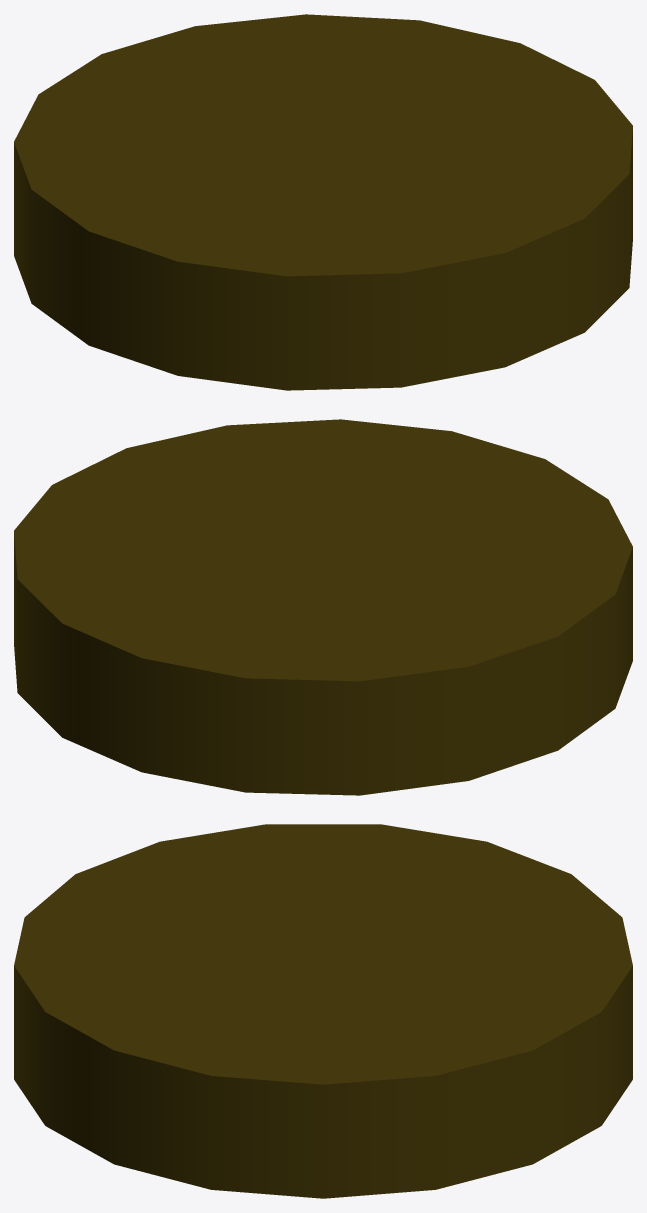
The model's file is treasure_chest_A_coin_B.fbx.
3 views of the same model, one above another, from view 1: azimuth 30°, elevation 25°; view 2: azimuth 150°, elevation 25°; view 3: azimuth 270°, elevation 25° (orthographic).
Parts seen in each view (by area): view 1: treasure_chest_A_coin_B; view 2: treasure_chest_A_coin_B; view 3: treasure_chest_A_coin_B.
Boxes of the visible parts, x1=… form: treasure_chest_A_coin_B: x1=14, y1=14, x2=632, y2=390; treasure_chest_A_coin_B: x1=14, y1=419, x2=632, y2=795; treasure_chest_A_coin_B: x1=14, y1=824, x2=632, y2=1198.
Size of the model in its own units: 8.33 by 1.7 by 8.36.
